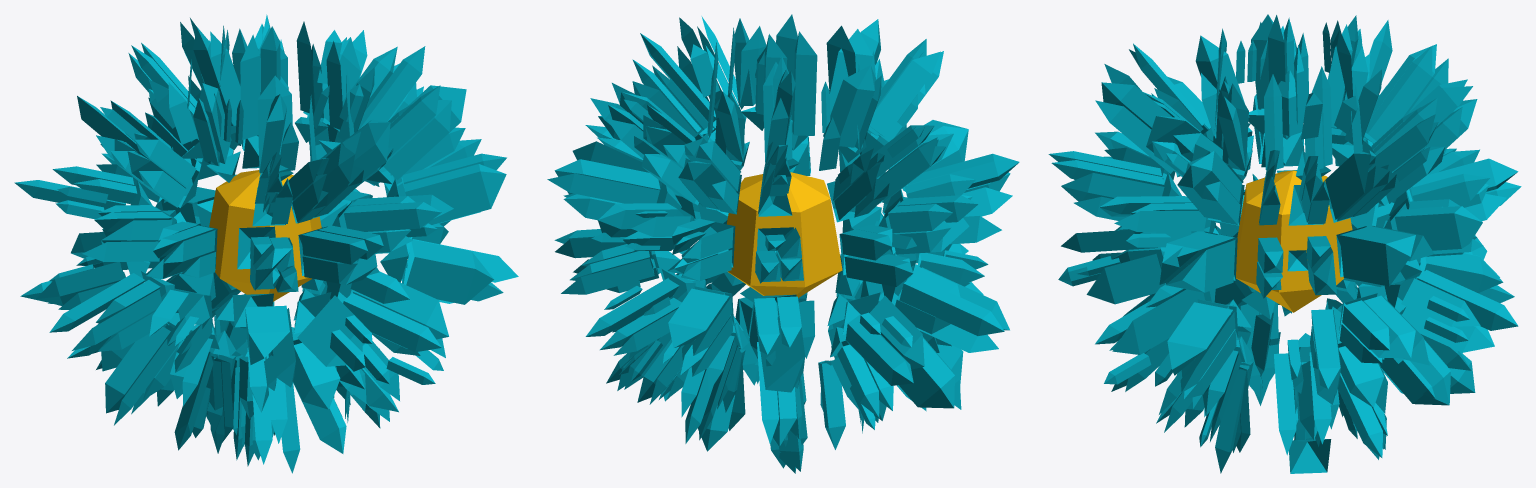
File: crystal_core.FBX
3 views of the same model, side by side, from view 1: azimuth 30°, elevation 25°; view 2: azimuth 150°, elevation 25°; view 3: azimuth 270°, elevation 25° (orthographic). The views are drawn at different scales.
Parts seen in each view (by area): view 1: Sphere002; view 2: Sphere002; view 3: Sphere002.
Boxes of the visible parts, x1,y1,x2,y2 form: Sphere002: [14, 14, 518, 473]; Sphere002: [547, 14, 1019, 473]; Sphere002: [1048, 14, 1521, 473].
Bounding box in the file's own units: 284 × 261 × 282.
